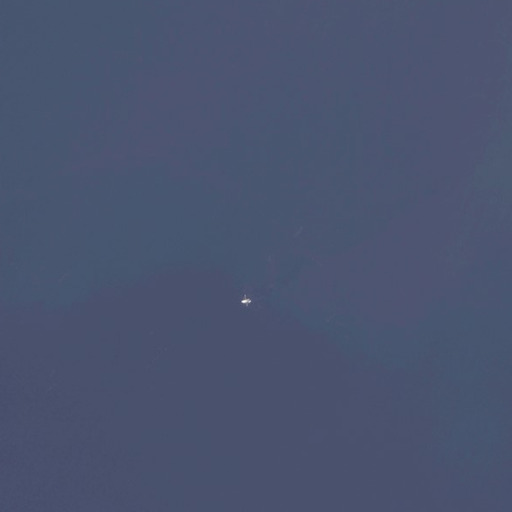ship: (238, 293, 259, 309)
